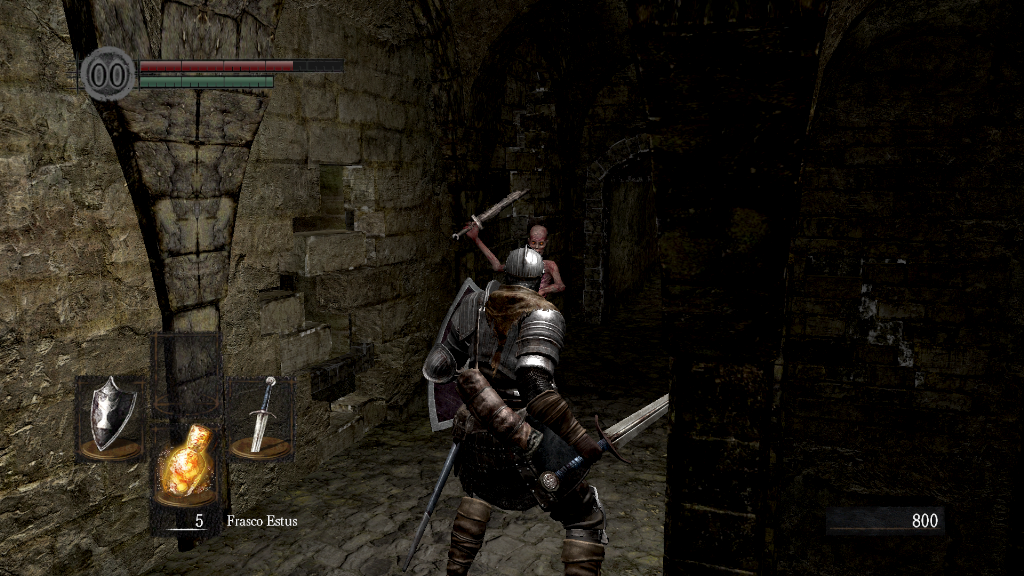health: (138, 58, 343, 71)
hollow: (463, 224, 567, 307)
humanity: (80, 45, 136, 102)
player: (402, 244, 670, 576)
souls: (825, 506, 945, 536)
stamina: (138, 74, 274, 88)
